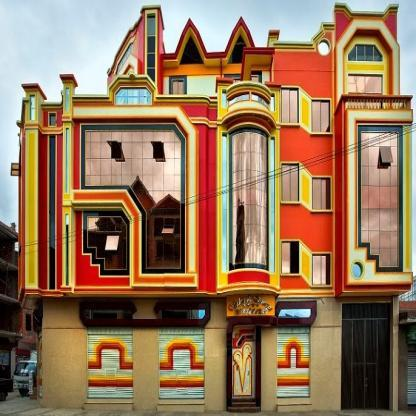Balcony: (21, 70, 281, 128), (342, 93, 413, 111)
Building Outline: (10, 2, 414, 414)
Door: (159, 327, 204, 400), (87, 327, 133, 398), (352, 320, 378, 411), (277, 327, 310, 398), (232, 325, 256, 398), (348, 75, 382, 110), (38, 327, 42, 398)
Facade: (11, 2, 413, 415)
Glass Wall: (86, 131, 180, 268), (229, 127, 269, 271), (362, 132, 397, 266)
Roof: (161, 15, 274, 81)
Shop: (227, 295, 275, 316), (33, 301, 43, 331)
Window: (88, 217, 126, 269), (50, 137, 55, 289), (148, 16, 156, 95), (282, 164, 298, 202), (281, 88, 298, 123), (312, 101, 331, 132), (313, 178, 331, 210), (282, 241, 299, 274), (348, 45, 381, 62), (116, 44, 133, 76), (271, 139, 275, 272), (313, 254, 330, 285), (84, 309, 132, 319), (158, 309, 205, 319), (223, 134, 226, 271), (278, 309, 310, 317), (172, 80, 183, 101), (66, 214, 69, 285), (231, 80, 240, 102), (66, 130, 69, 194), (252, 77, 258, 102)
